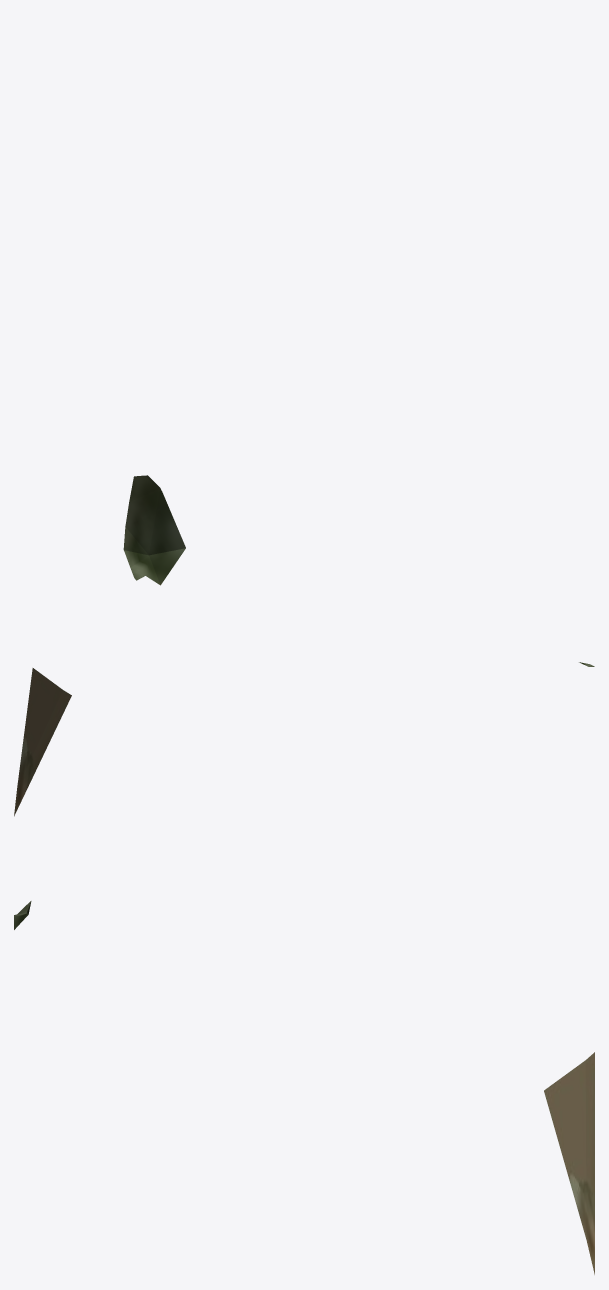
The picture shows the model from 3 angles, top to bottom: view 1: azimuth 30°, elevation 25°; view 2: azimuth 150°, elevation 25°; view 3: azimuth 270°, elevation 25°; orthographic projection. The views are drawn at different scales.
Size of the model in its own units: 2.95 by 1.04 by 2.95.
Materials: 1 (1 with a texture image).
